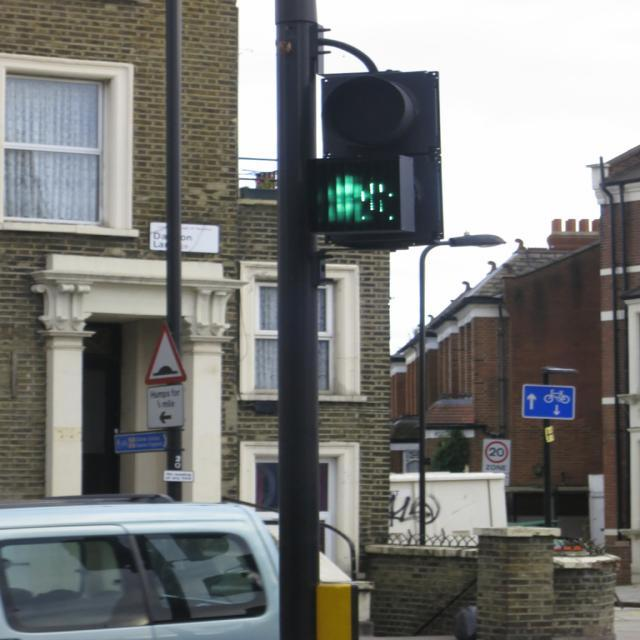road_sign: (144, 319, 187, 384), (483, 439, 510, 464)
traffic light: (299, 66, 444, 249)
